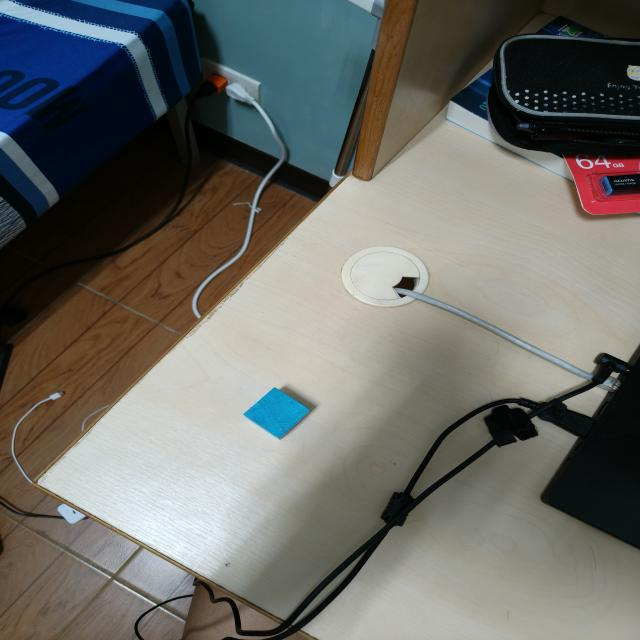blue_block: (244, 387, 314, 440)
